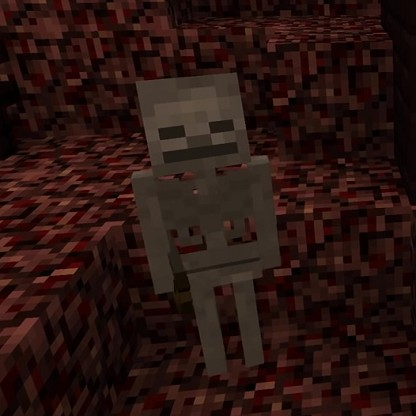skeleton: (131, 70, 283, 374)
